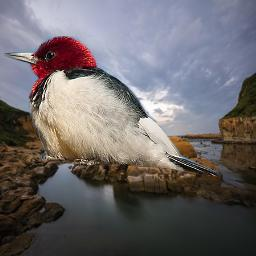Woodpecker: (3, 36, 222, 176)
